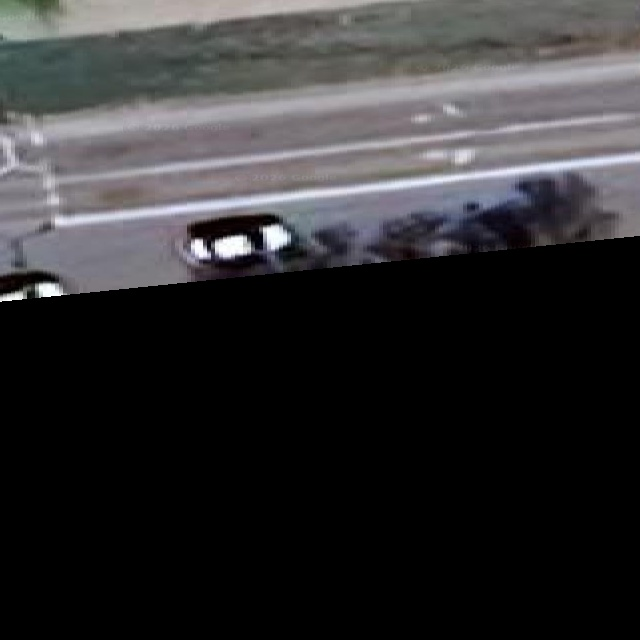car: (370, 172, 619, 259), (178, 213, 380, 279), (178, 213, 316, 276), (0, 271, 69, 300)
